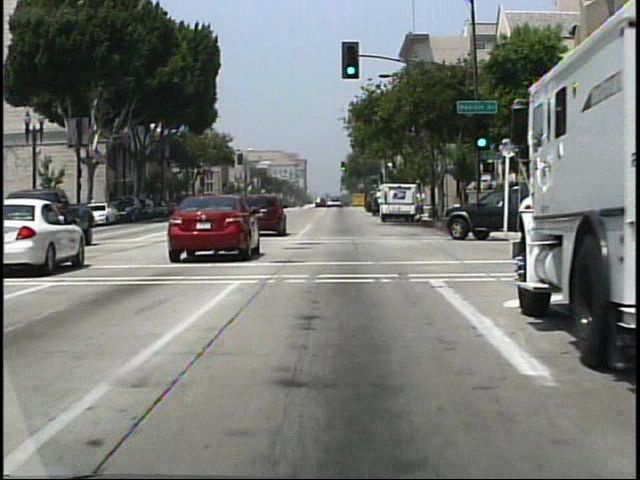person: (415, 188, 426, 221)
